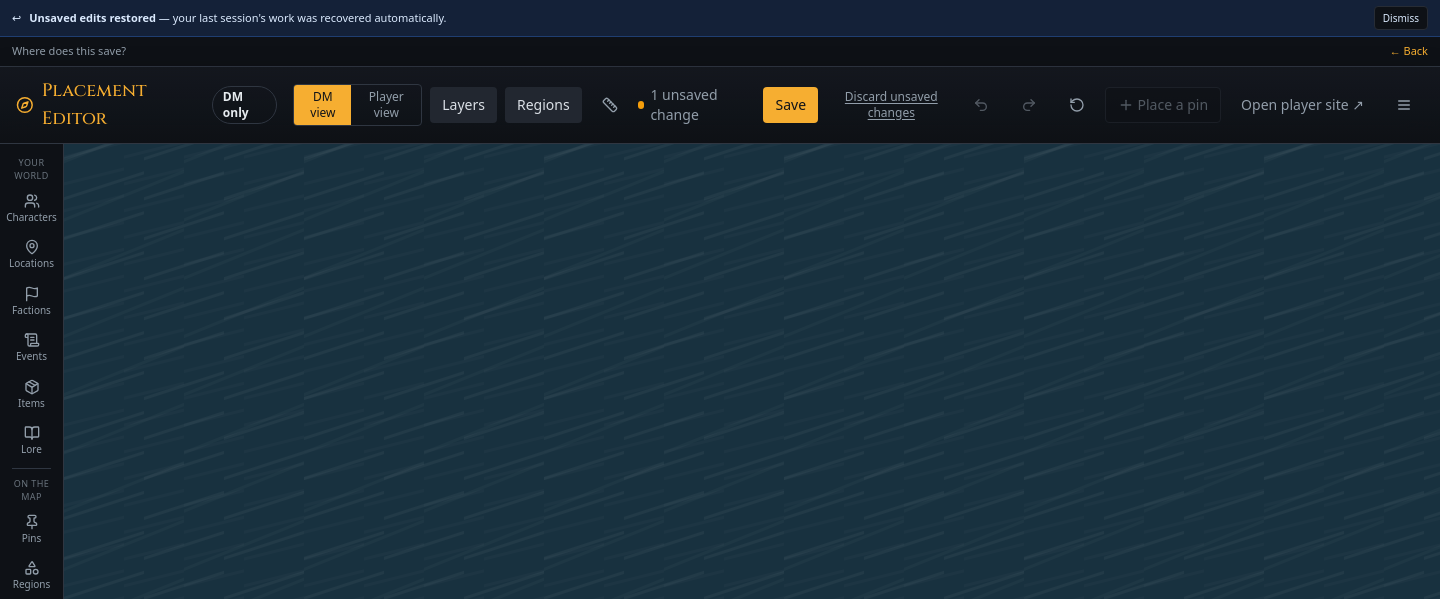
world.yaml save conflict › disjoint outside edit: the notice names it, the chip isn't 'Save failed', and Try again keeps both
Click the button "Save" at (791, 104), box top-left (764, 86), bottom-right (818, 122)
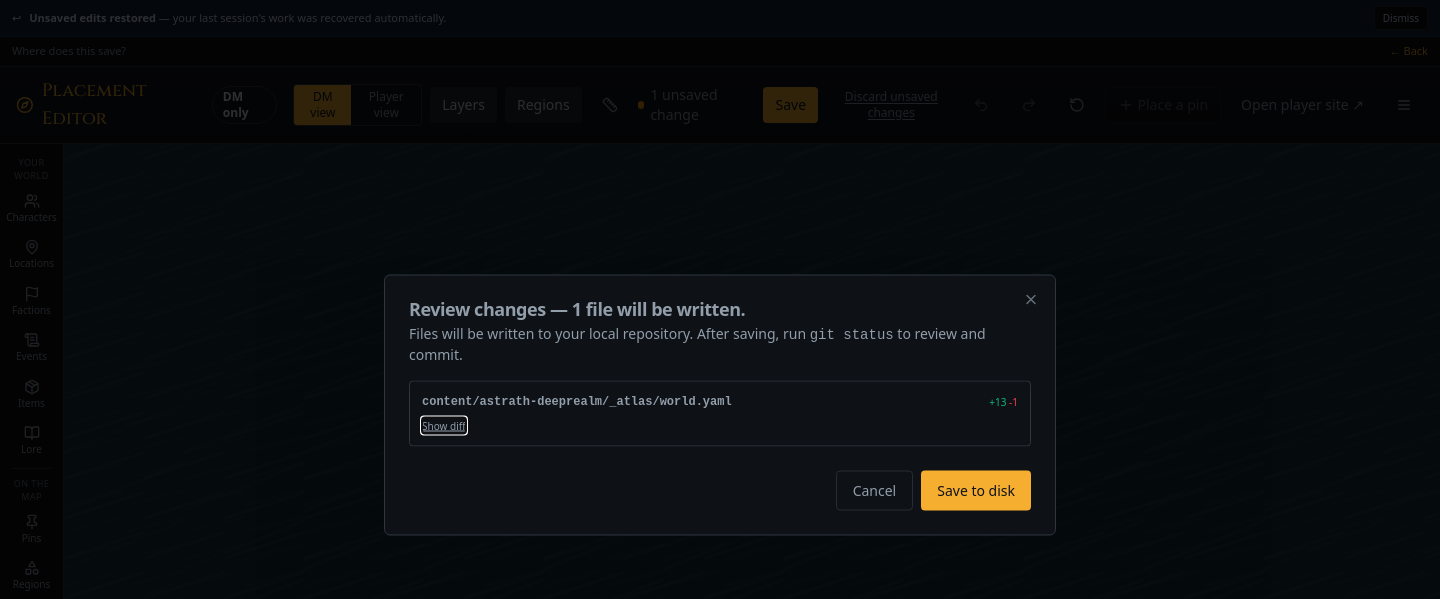
Result: the text "content/astrath-deeprealm/_atlas/world.yaml" is shown at top-left (422, 394), bottom-right (732, 410)
Click the button "Save to disk" at (976, 490), box top-left (921, 470), bottom-right (1031, 510)
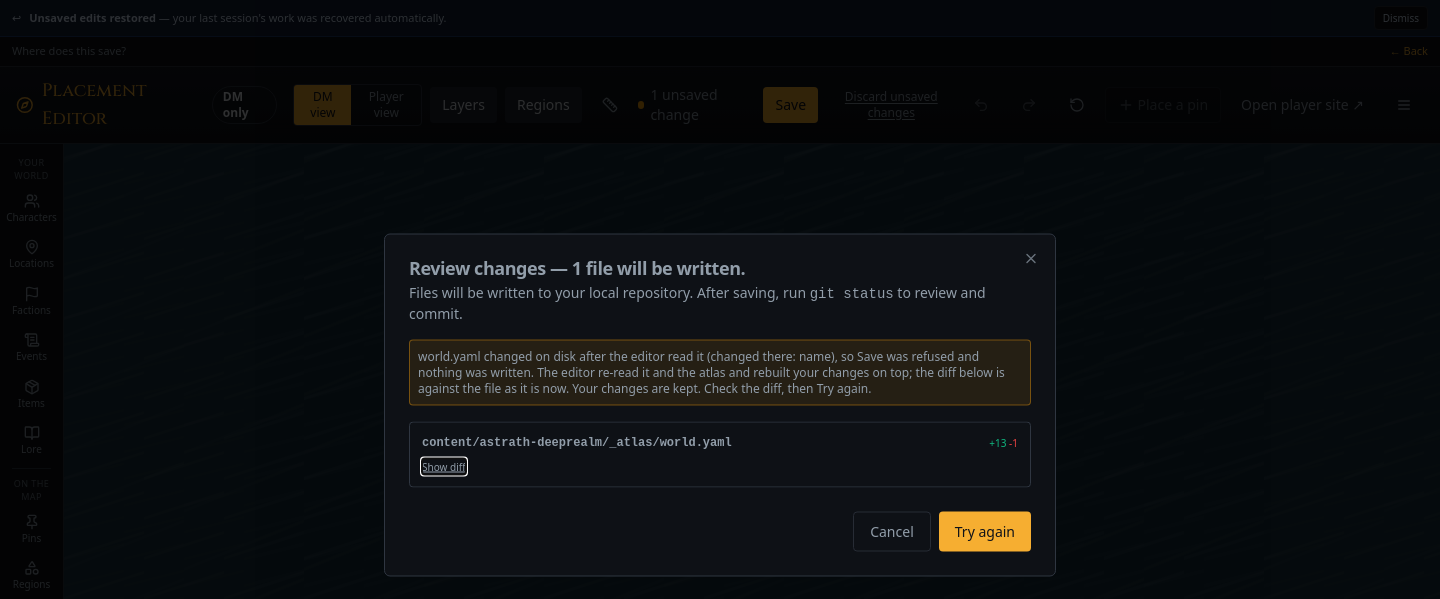
Expected: the message does not show "overwrite", top-left (409, 340), bottom-right (1031, 406)
Result: the message shows "changed on disk" at top-left (418, 348), bottom-right (1005, 396)
Result: the message shows "your changes are kept" at top-left (418, 348), bottom-right (1005, 396)
Click the button "Try again" at (985, 532), box top-left (939, 512), bottom-right (1031, 552)
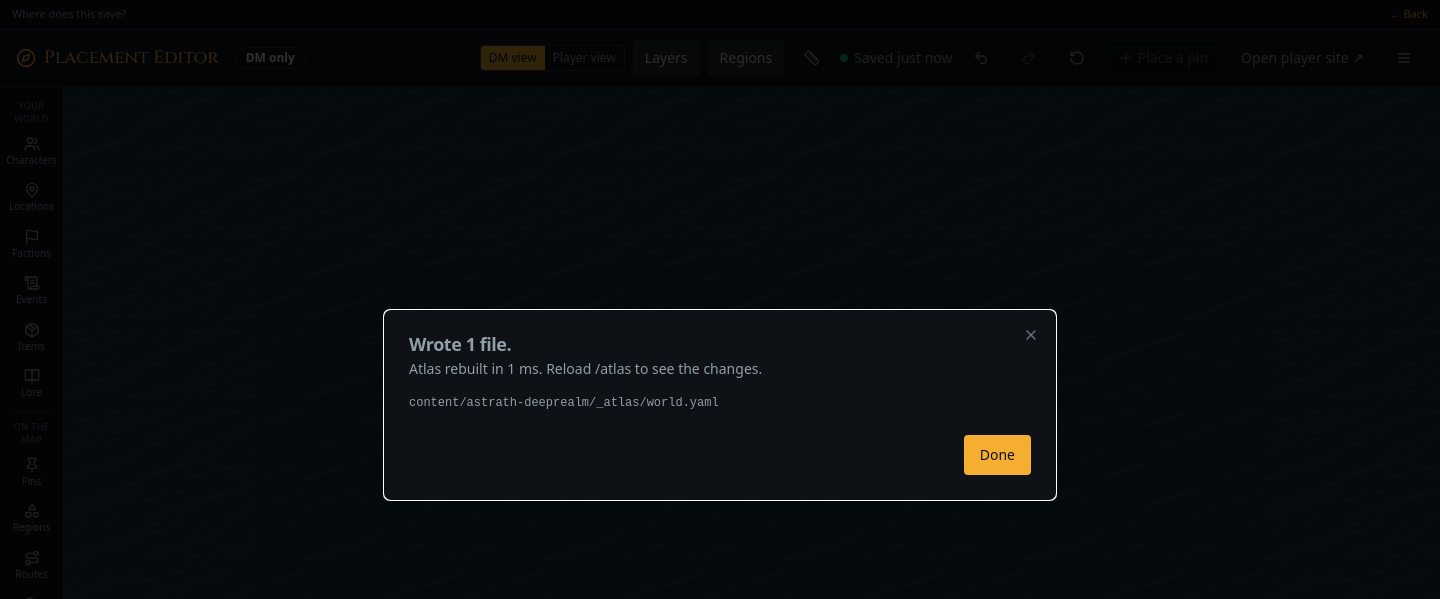
Result: the heading "Wrote 1 file." is shown at top-left (409, 332), bottom-right (511, 356)
